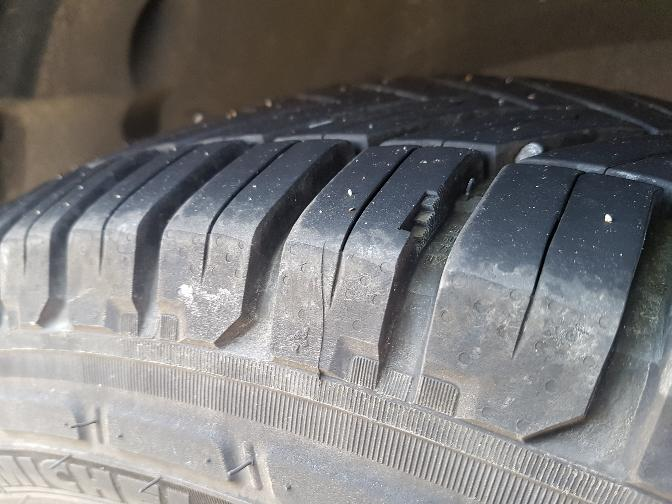temoin:90: (394, 180, 456, 260)
